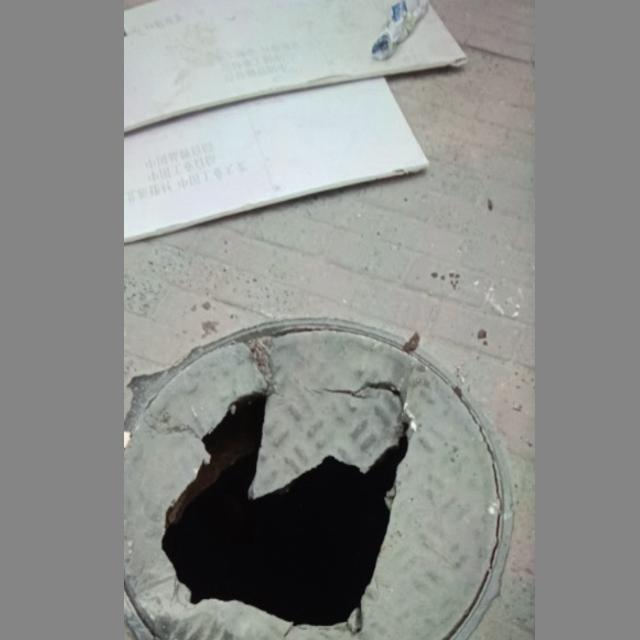broke: (126, 317, 513, 640)
